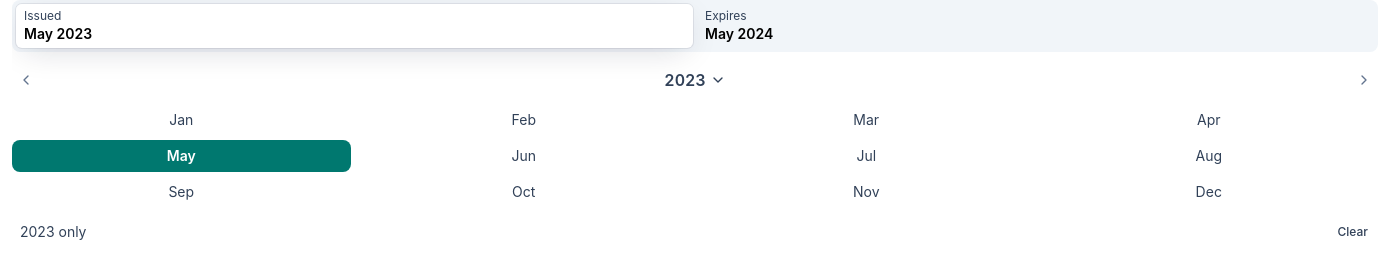
Test case: CertificateDatesForm negative scenarios › shows "No expiry" and lets the user clear an expiry again
The image size is (1390, 261).
Click the tab "Expires May 2024": point(726, 16) [697, 4, 1374, 48]
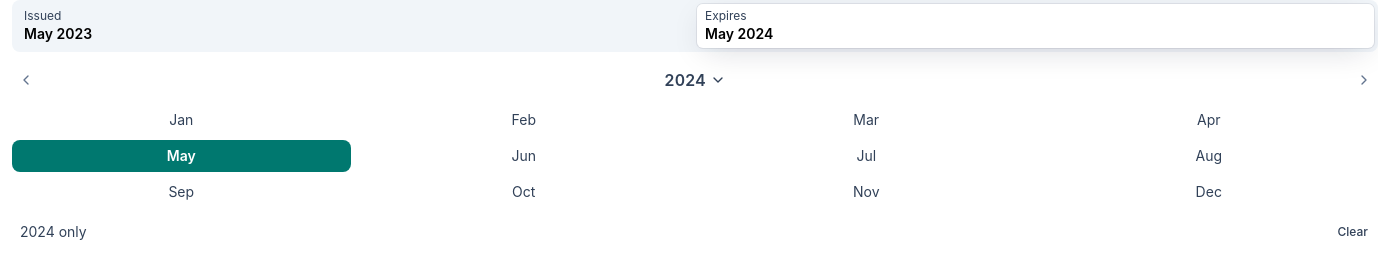
Click the button "Clear": point(1353, 232) [1328, 220, 1378, 244]
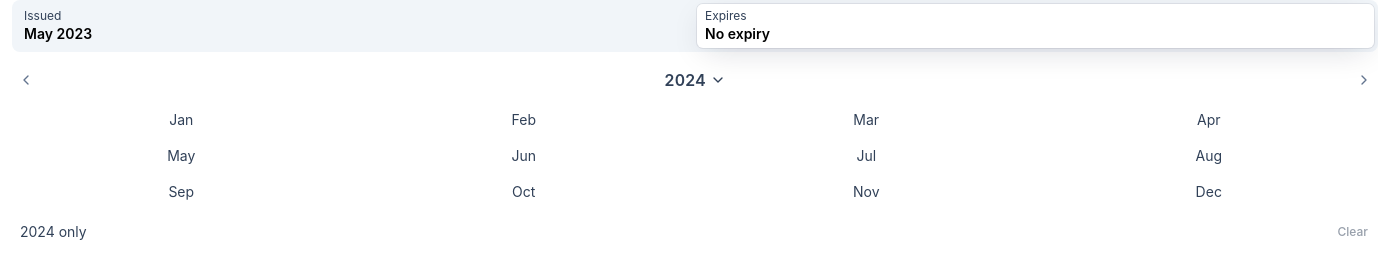
Result: the tab "Expires No expiry" is shown at [697, 4, 1374, 48]
